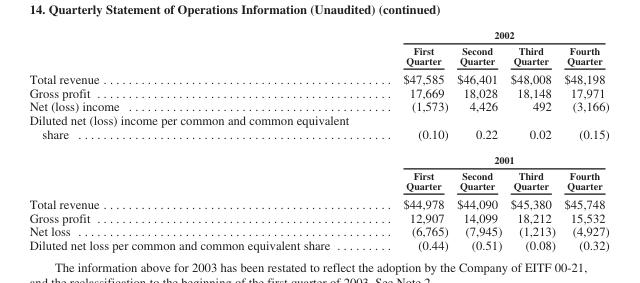table: (28, 28, 608, 252)
table column: (28, 28, 375, 252), (375, 28, 451, 252), (451, 28, 505, 252), (505, 28, 559, 252), (559, 28, 608, 252)
table column header: (28, 28, 608, 68)
table row: (28, 113, 608, 147), (28, 42, 608, 68), (28, 167, 608, 193), (28, 147, 608, 167), (28, 68, 608, 85), (28, 193, 608, 210), (28, 28, 608, 42), (28, 85, 608, 99), (28, 99, 608, 113), (28, 210, 608, 224), (28, 224, 608, 238), (28, 238, 608, 252)
table spanning cell: (375, 147, 608, 167), (375, 28, 608, 42)
